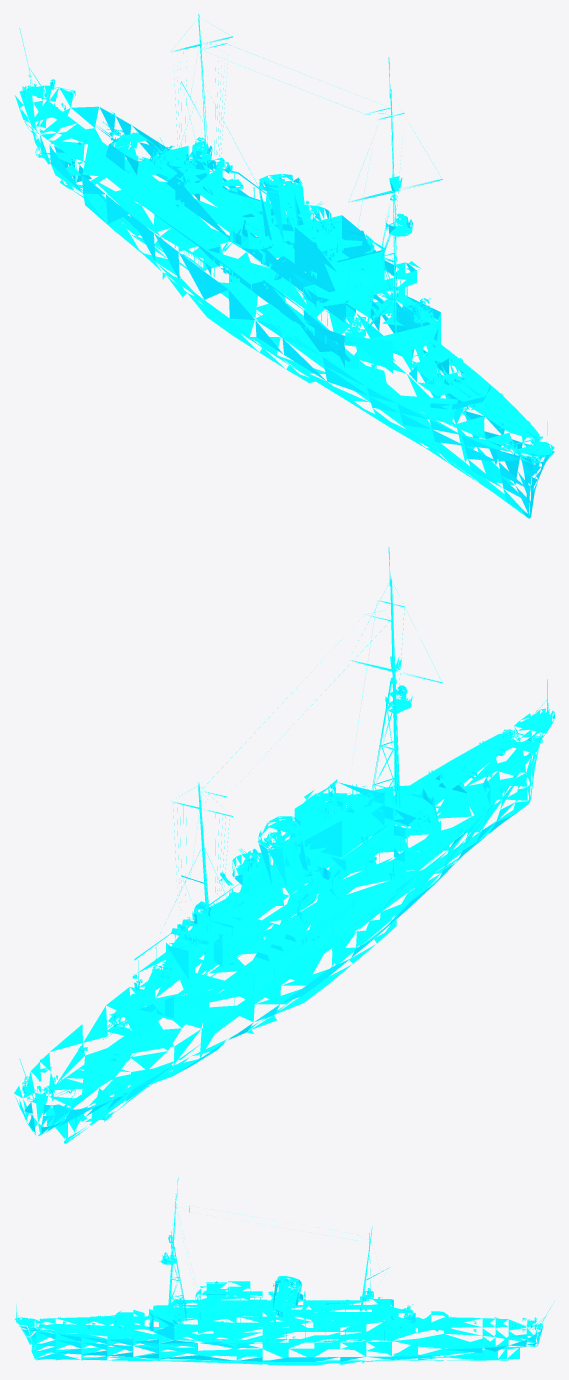
File: Hermelin.glb
The picture shows the model from 3 angles, top to bottom: view 1: azimuth 30°, elevation 25°; view 2: azimuth 150°, elevation 25°; view 3: azimuth 270°, elevation 25°; orthographic projection. The views are drawn at different scales.
Size of the model in its own units: 0.853 by 2.7 by 7.23.
